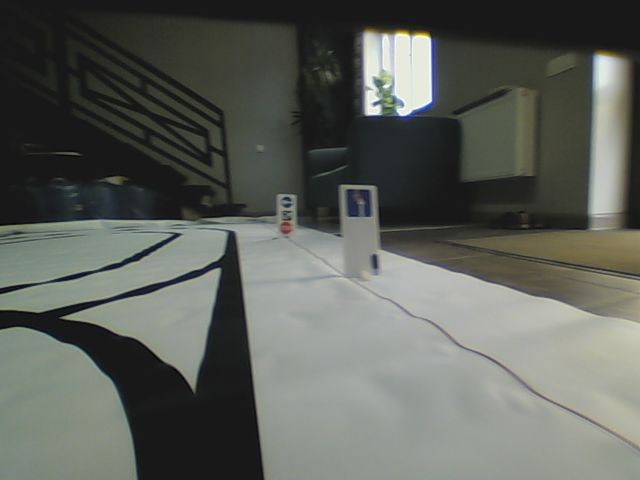priority_movement: (345, 187, 371, 219)
